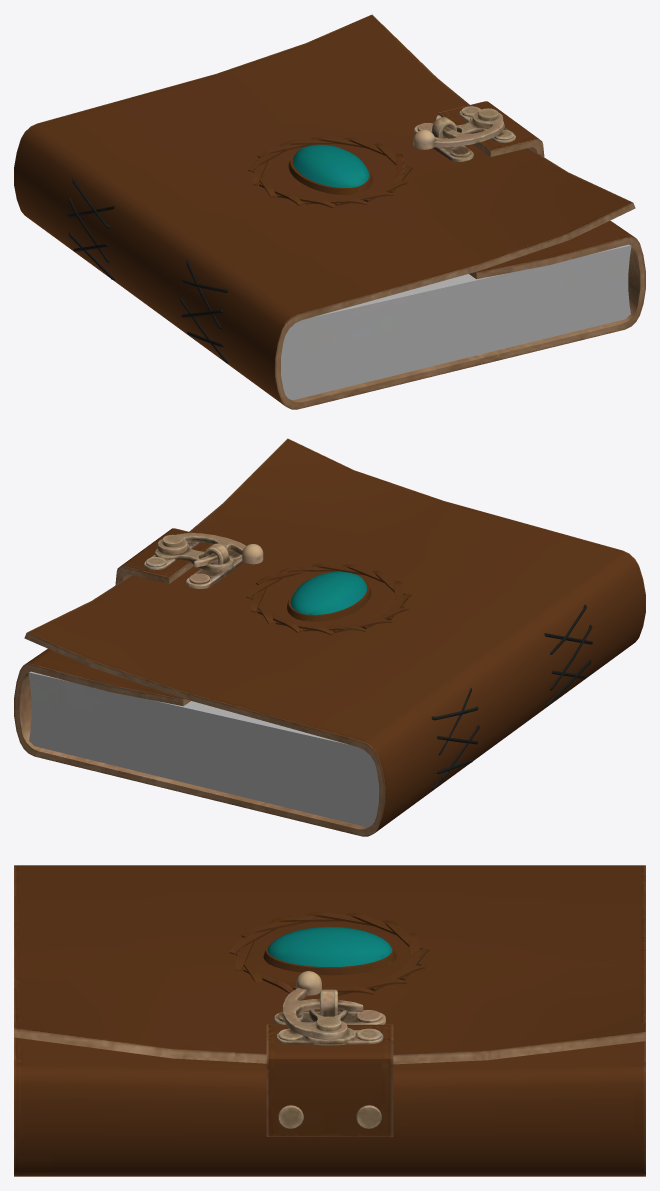
The model's file is book-old.glb.
The picture shows the model from 3 angles, top to bottom: view 1: azimuth 30°, elevation 25°; view 2: azimuth 150°, elevation 25°; view 3: azimuth 270°, elevation 25°; orthographic projection. The views are drawn at different scales.
Parts seen in each view (by area): view 1: Livre_High; view 2: Livre_High; view 3: Livre_High.
Part boxes in pixels (<box>): Livre_High: <box>14,14,645,409</box>; Livre_High: <box>14,438,645,836</box>; Livre_High: <box>14,865,645,1176</box>.
Size of the model in its own units: 0.2097 by 0.0682 by 0.25.
Materials: 1 (1 with a texture image).
